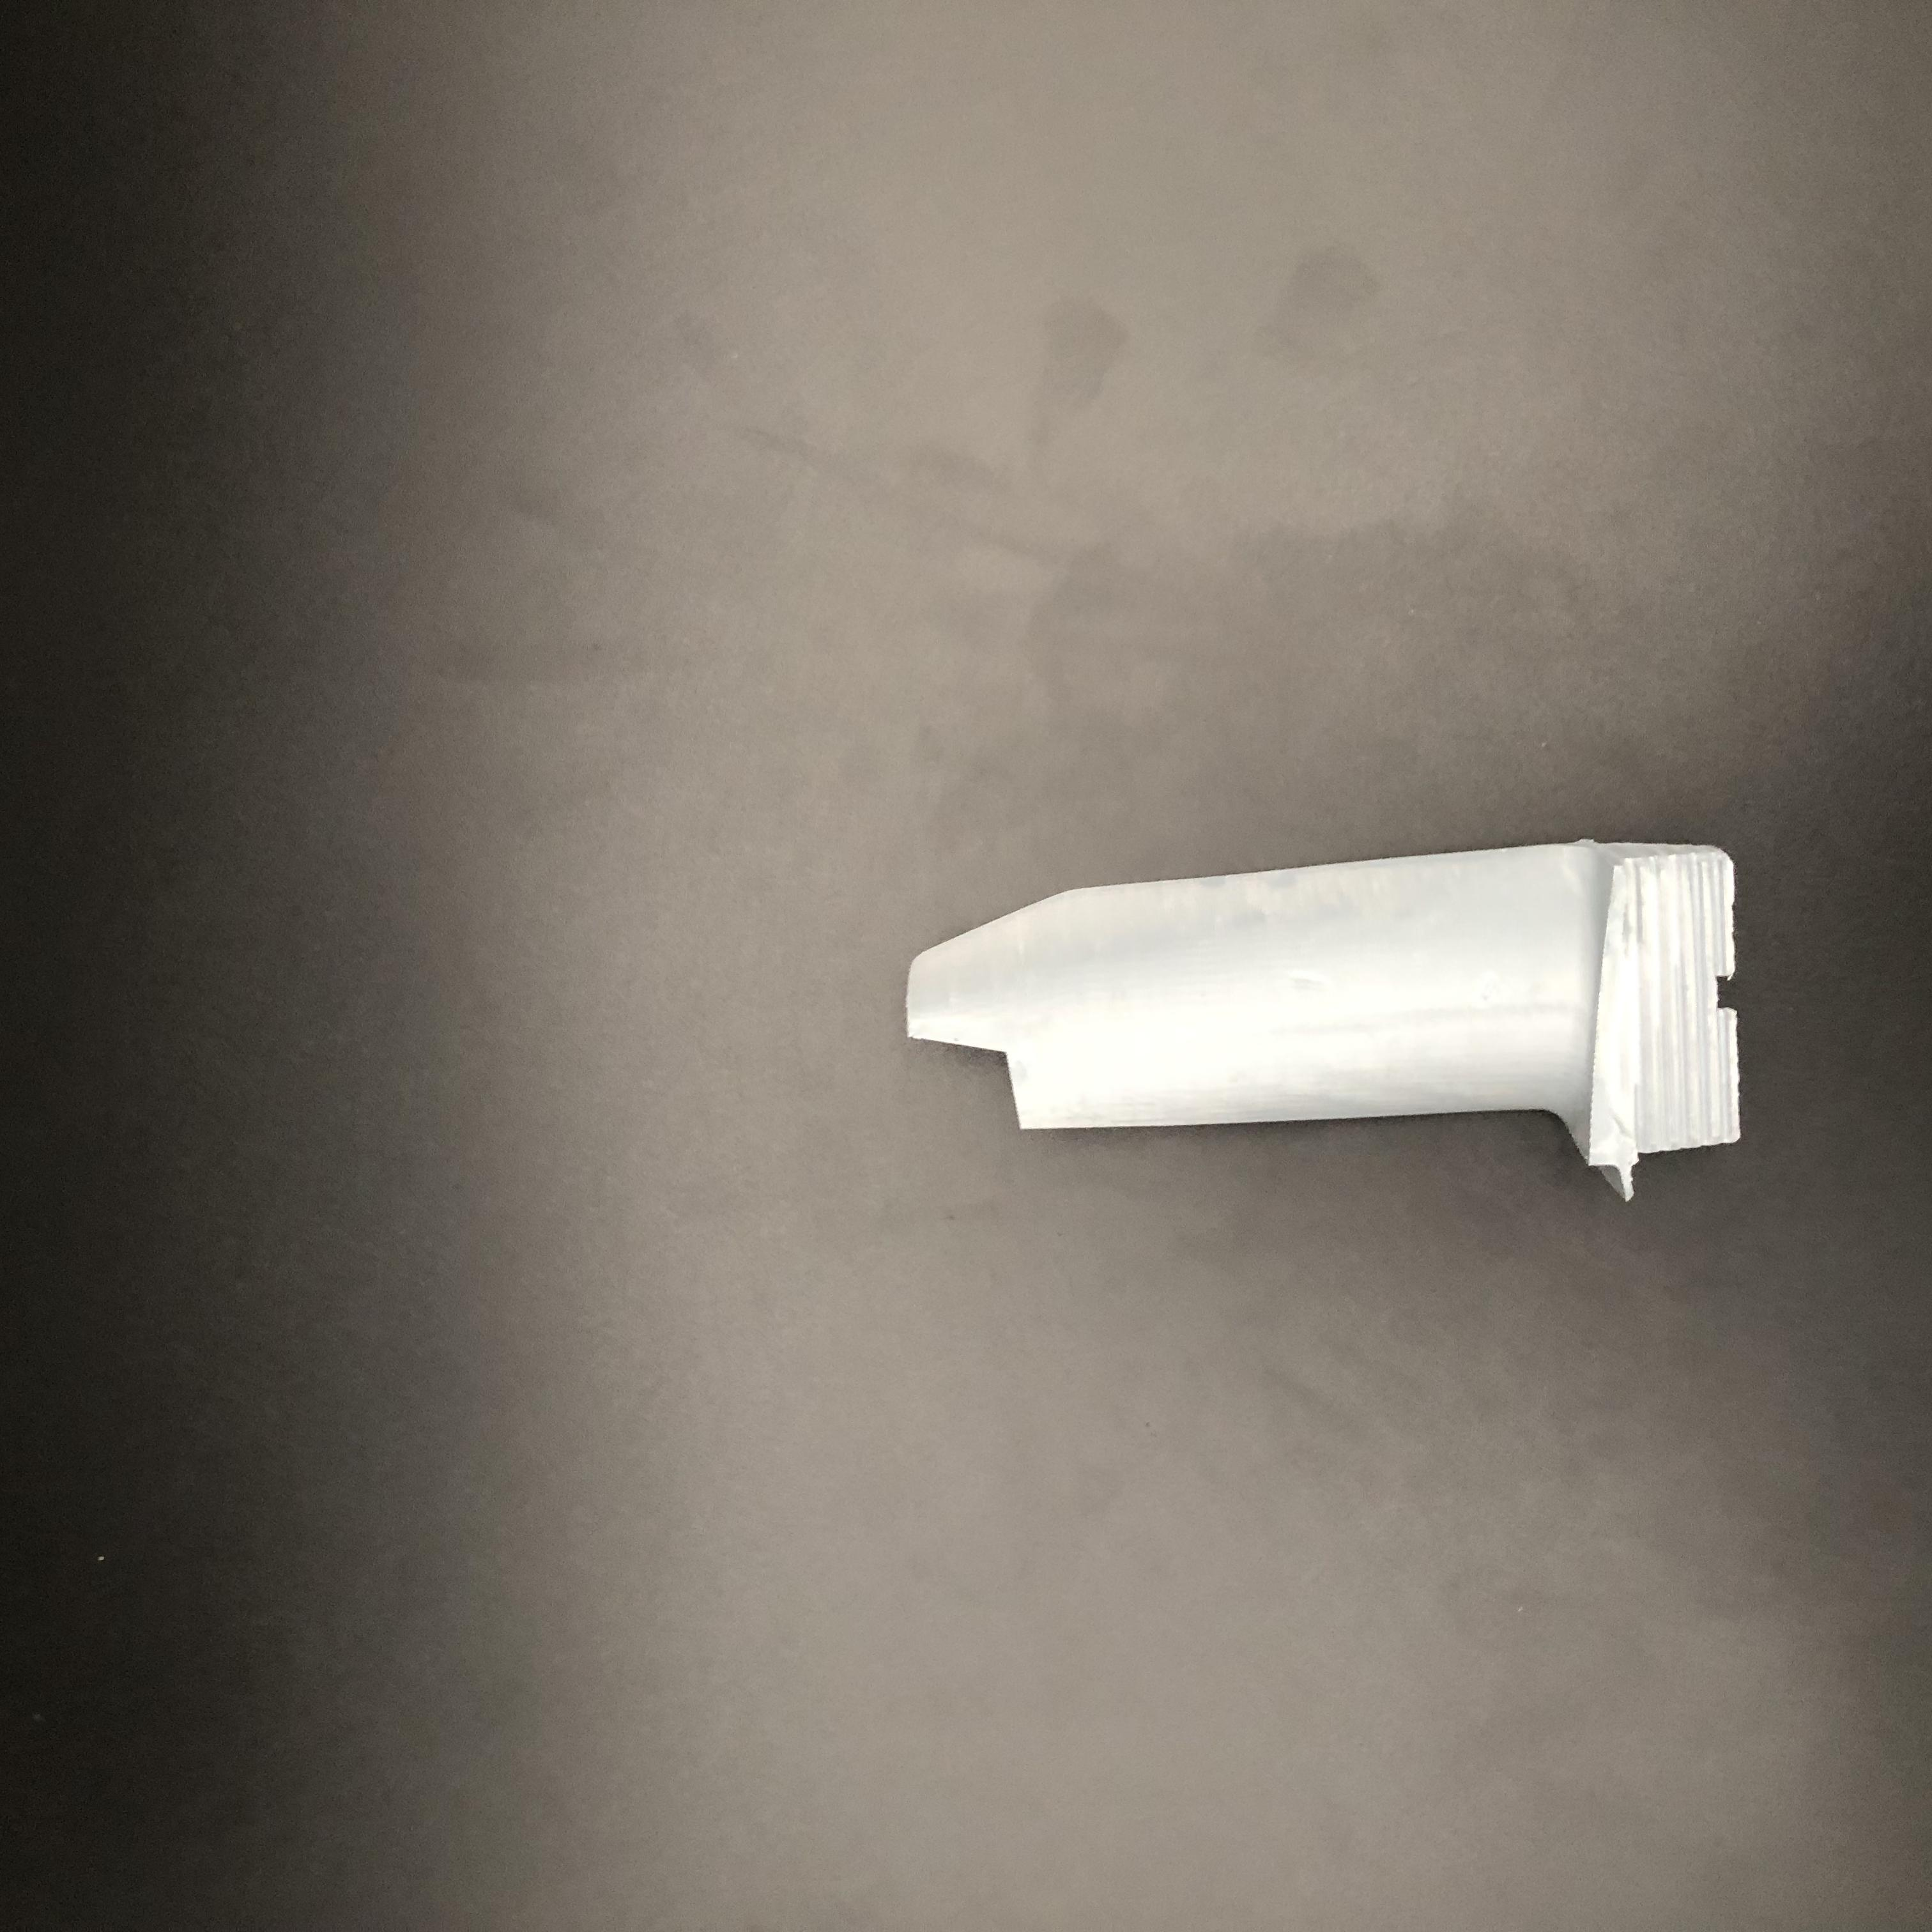fracture: (913, 1026, 1035, 1136)
